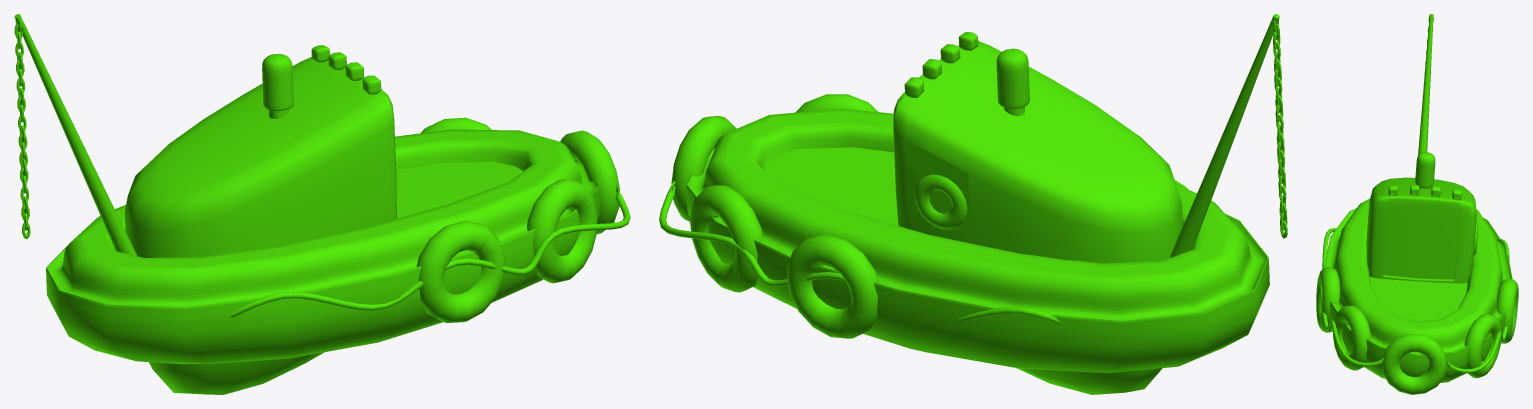
File: GB_Ship_C_Fast_Animation.fbx
3 views of the same model, side by side, from view 1: azimuth 30°, elevation 25°; view 2: azimuth 150°, elevation 25°; view 3: azimuth 270°, elevation 25° (orthographic). The views are drawn at different scales.
Parts seen in each view (by area): view 1: Boat1; view 2: Boat1; view 3: Boat1.
Part boxes in pixels (<box>): Boat1: <box>14,14,630,394</box>; Boat1: <box>659,14,1287,394</box>; Boat1: <box>1316,14,1518,394</box>.
Size of the model in its own units: 282 by 194 by 140.
